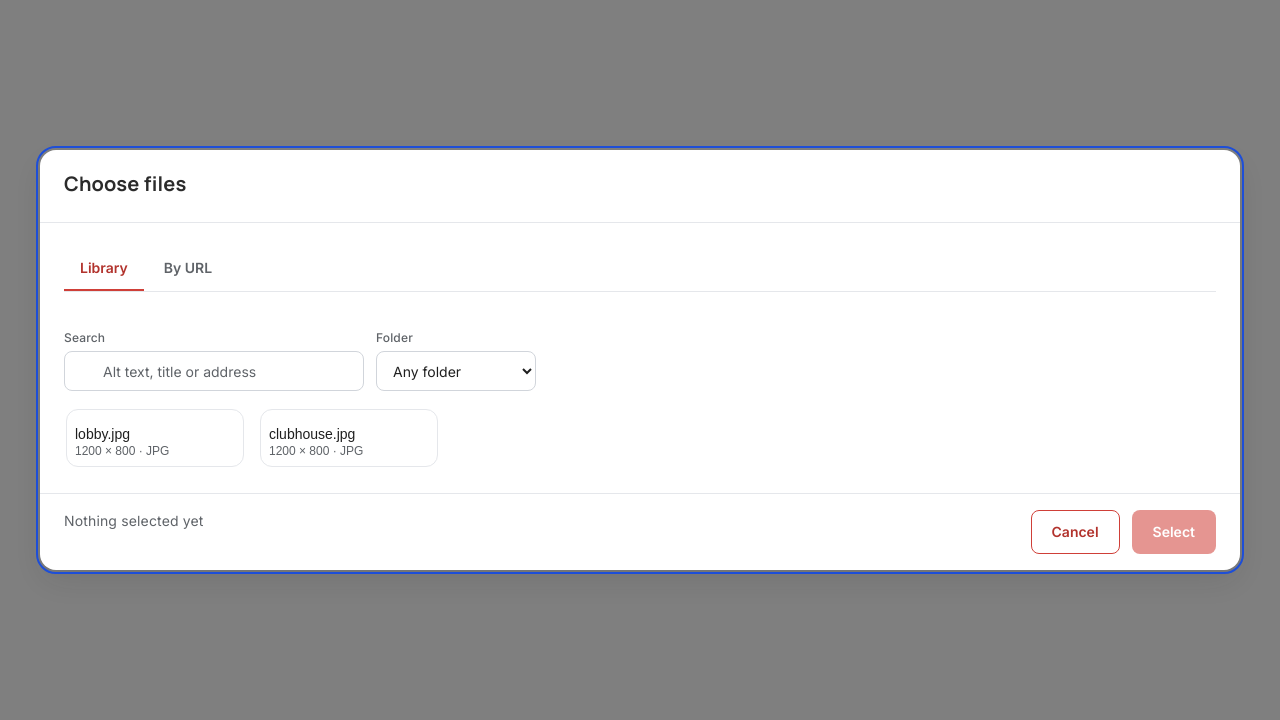
Test: lets a tile be pressed again to drop it from the selection
Click the button "lobby.jpg 1200 × 800 · JPG" at point(155, 438), box top-left (66, 409), bottom-right (244, 467)
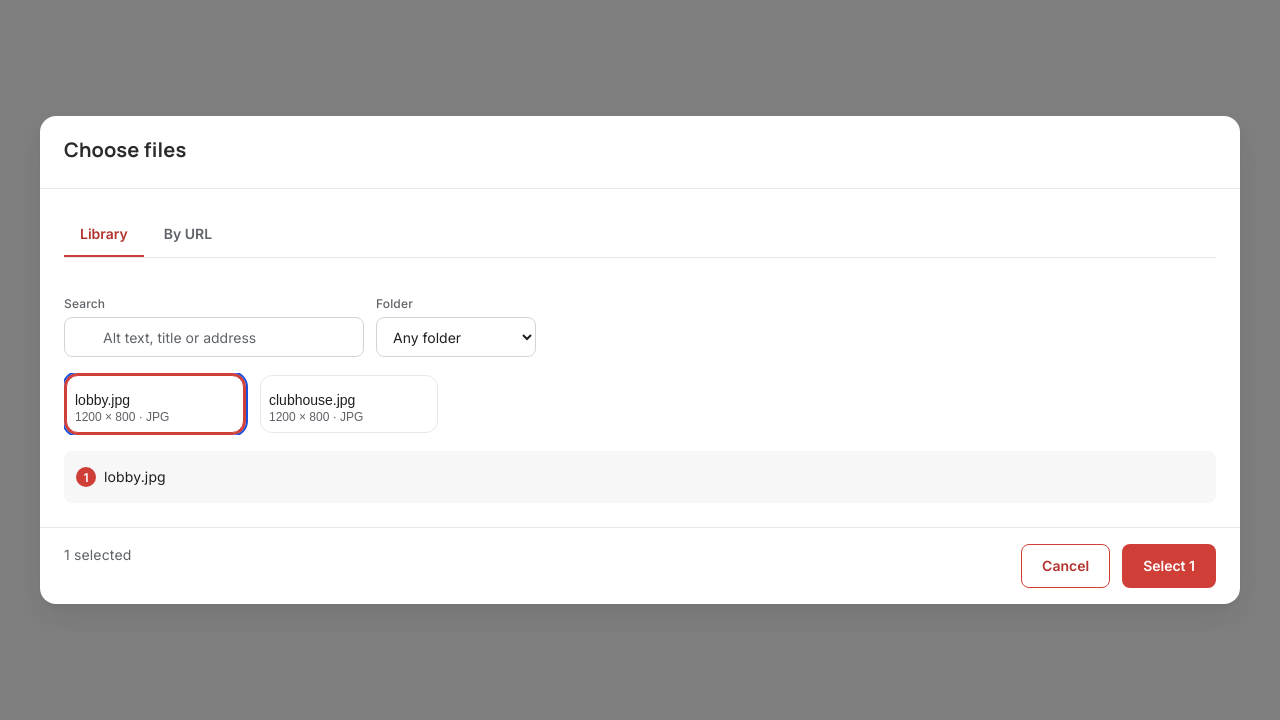
Check: the text "1 selected" is shown, box top-left (64, 546), bottom-right (131, 563)
Click the button "lobby.jpg 1200 × 800 · JPG" at point(155, 404), box top-left (66, 375), bottom-right (244, 433)
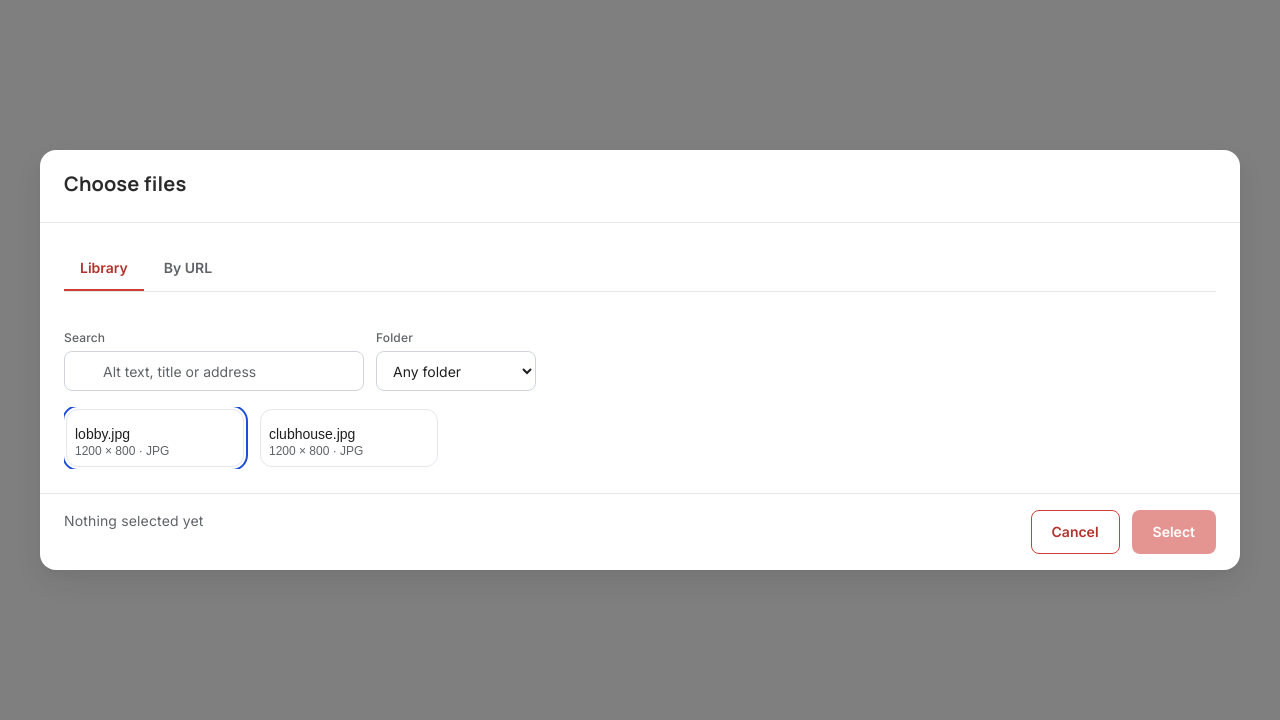
Check: the text "Nothing selected yet" is shown, box top-left (64, 512), bottom-right (204, 529)
Check: the button "Select" is disabled, box top-left (1132, 510), bottom-right (1216, 554)
